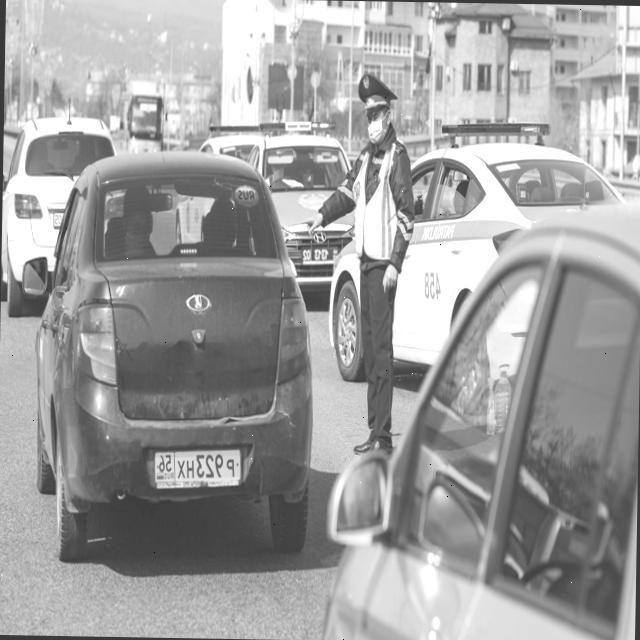number-plates: (154, 448, 242, 492)
